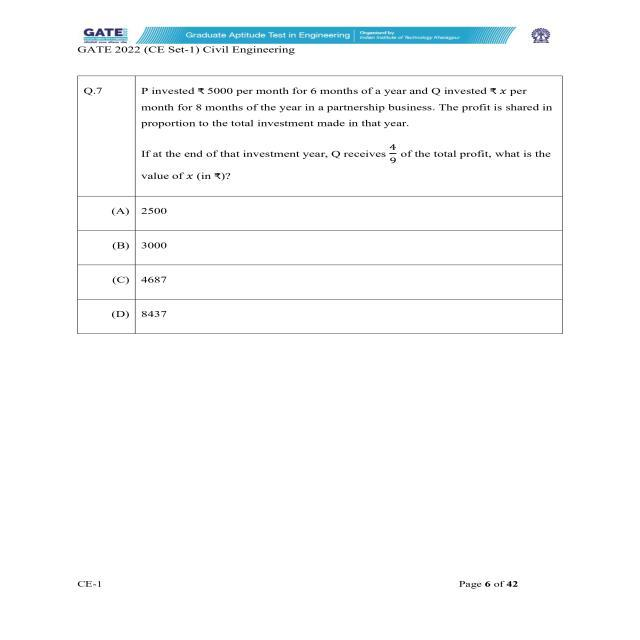Answer_Block: (44, 193, 582, 356)
Question_Answer_Block: (44, 74, 580, 354)
Question_Block: (45, 72, 578, 195)
Question_Paper_Area: (42, 70, 582, 359)
